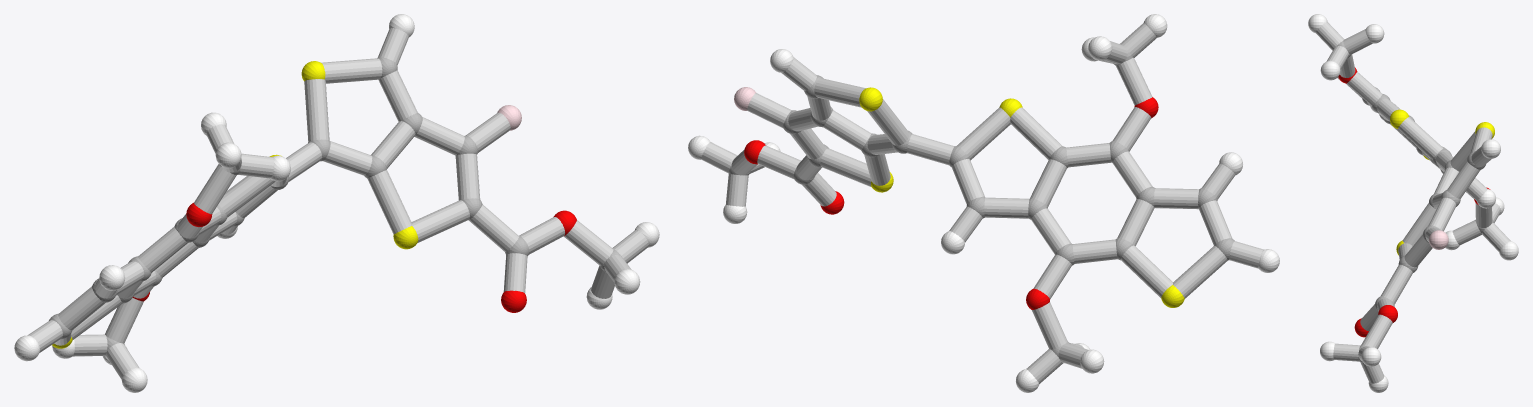
Rendered from Dimethoxy_Benzodithiophene_Phi_10_Theta_100_Methylcarbonyl_3_Fluoro_Thienothiophene.glb.
3 renders of one model, left to right at view 1: azimuth 30°, elevation 25°; view 2: azimuth 150°, elevation 25°; view 3: azimuth 270°, elevation 25°, orthographic. The views are drawn at different scales.
Visible parts, largest first — view 1: grp15205, grp8689, grp1, grp13395, grp7241; view 2: grp15205, grp8689, grp1, grp7241, grp13395; view 3: grp15205, grp8689, grp1, grp13395, grp7241, grp14843.
Part boxes in pixels (bbox=[...]): grp15205: bbox=[28, 28, 648, 379]; grp8689: bbox=[14, 14, 659, 392]; grp1: bbox=[49, 57, 621, 356]; grp13395: bbox=[132, 202, 576, 312]; grp7241: bbox=[52, 61, 418, 348]; grp15205: bbox=[701, 23, 1263, 383]; grp8689: bbox=[688, 14, 1279, 392]; grp1: bbox=[729, 43, 1234, 363]; grp7241: bbox=[859, 87, 1184, 307]; grp13395: bbox=[744, 97, 1158, 309]; grp15205: bbox=[1316, 22, 1510, 383]; grp8689: bbox=[1308, 14, 1518, 392]; grp1: bbox=[1336, 41, 1493, 362]; grp13395: bbox=[1338, 67, 1490, 337]; grp7241: bbox=[1390, 109, 1494, 255]; grp14843: bbox=[1429, 230, 1448, 249].
Bounding box in the file's own units: 17 × 8.05 × 6.39.
